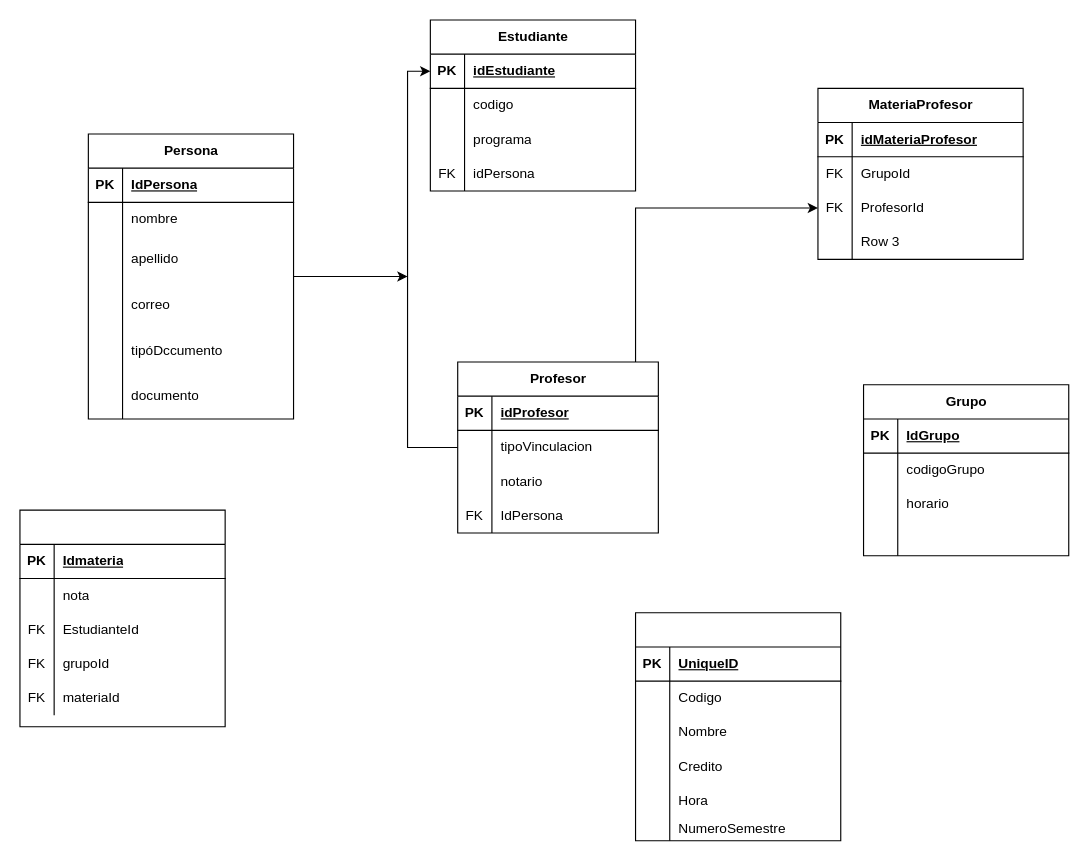
The diagram is 1089 pixels wide and 861 high, and some of its shapes have lost their labels. Here are the shapes that lost their labels. From the top down, the box of each, then its label:
(19, 509, 225, 727): Matricula
(634, 612, 841, 841): Materia
